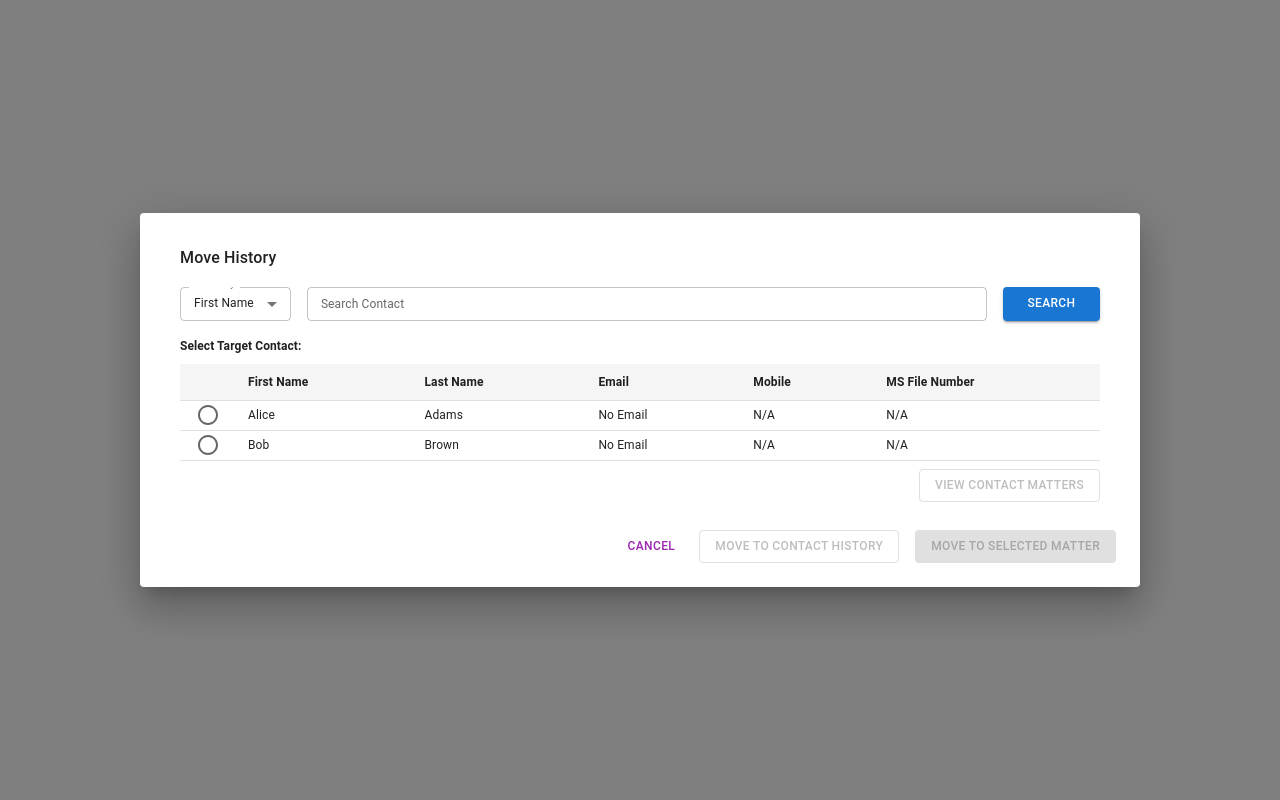
Test case: ContactDialog Matter destinations › loads Matters for a Contact found through CRM search
Click the text "Alice": {"x": 320, "y": 415} [232,400,408,430]
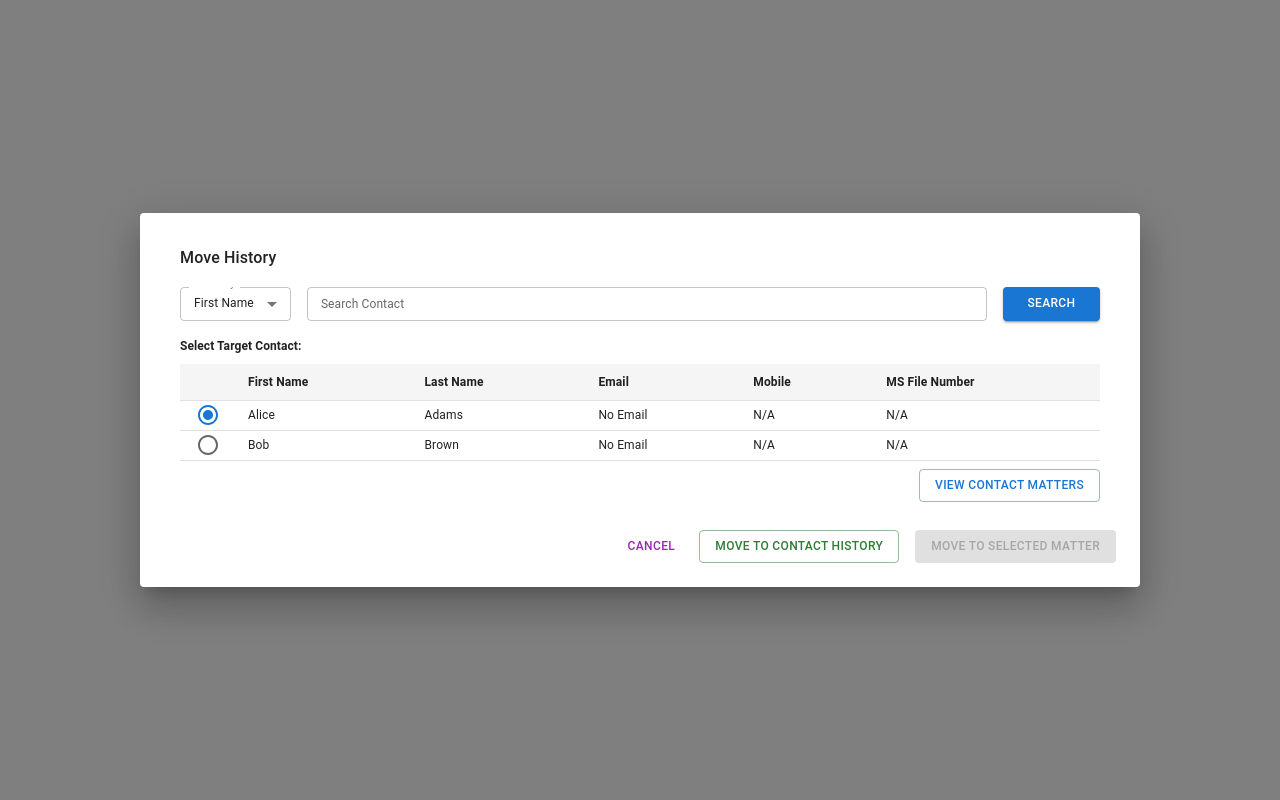
Click the button "View Contact Matters": {"x": 1010, "y": 486} [919,469,1100,502]
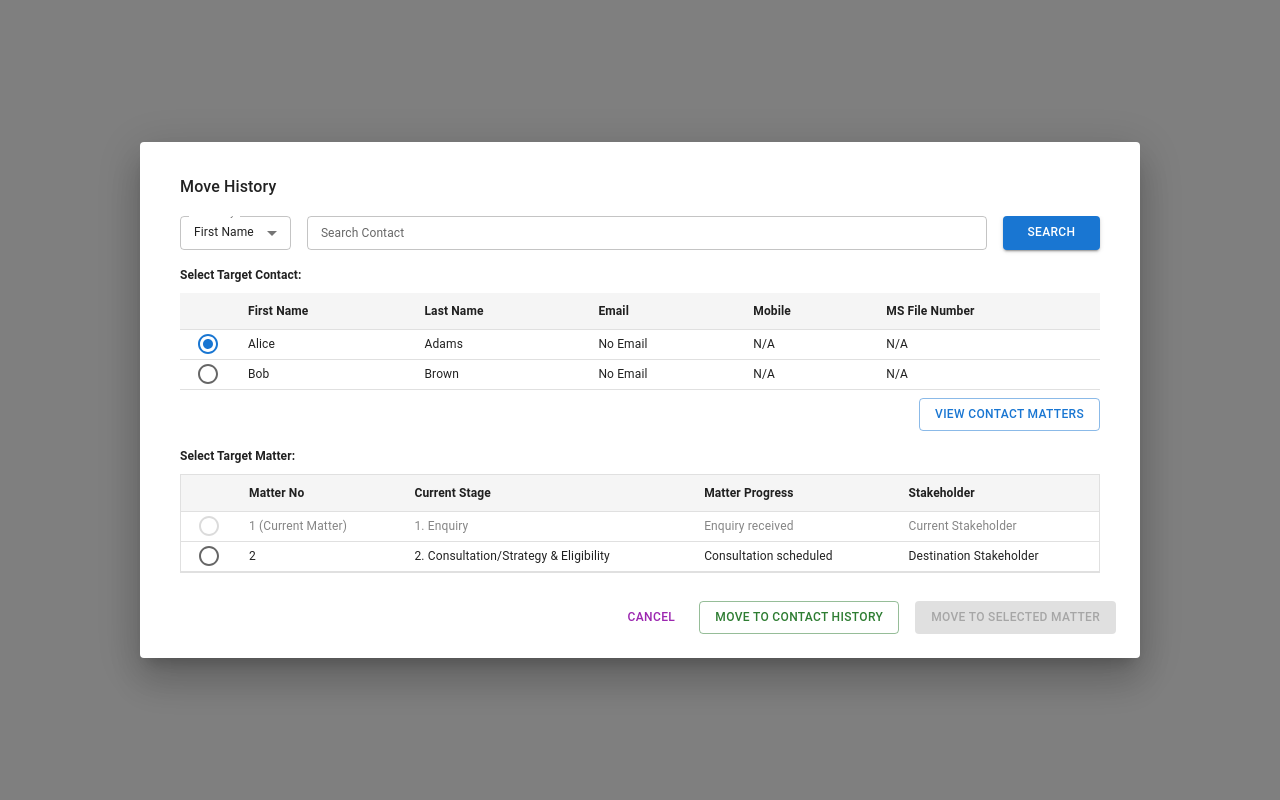
Check: the heading "Select Target Matter:" is shown, box [180,449,295,463]
Click the radio button named "Select Matter 2": {"x": 209, "y": 556} [197,544,221,568]
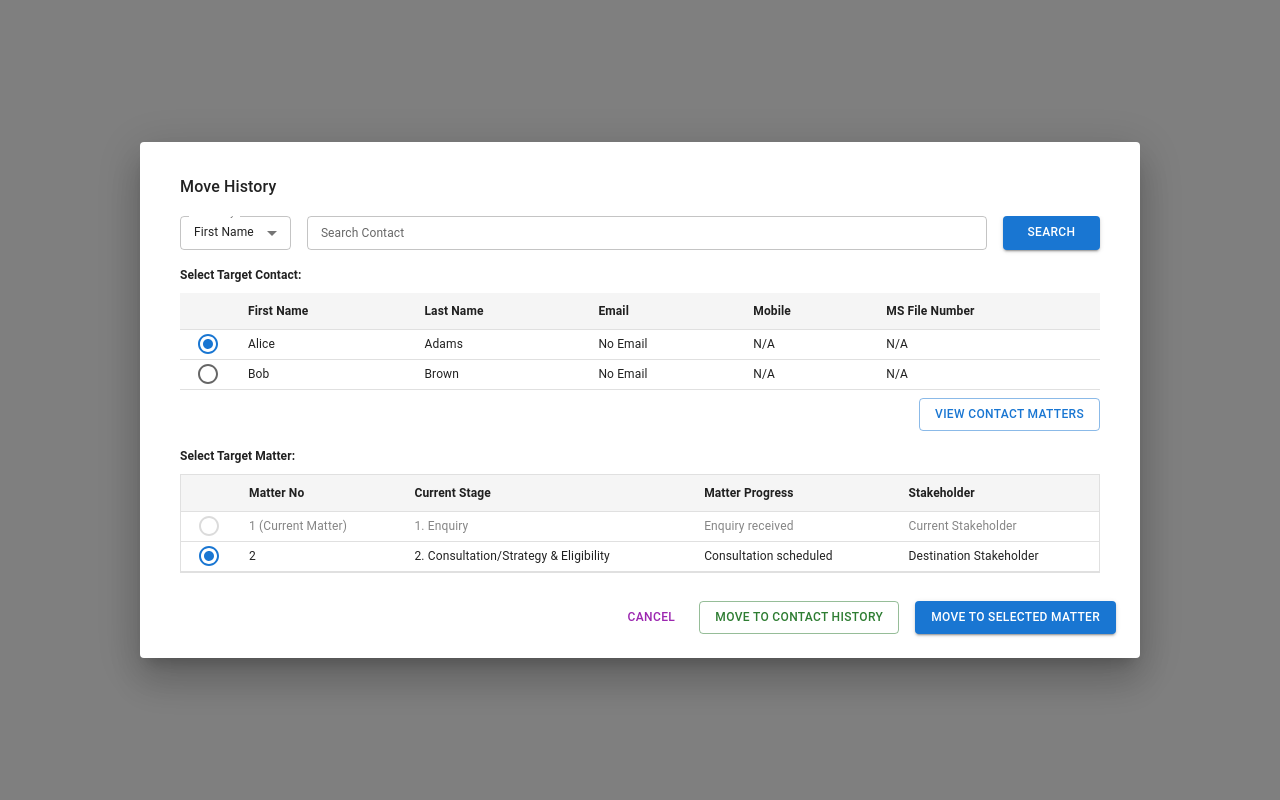
Check: the button "Move to Selected Matter" is enabled, box [915,601,1116,634]
In the field labelled "Search Contact": {"x": 647, "y": 233} [307,216,987,250], type "Search"
Click the button "Search": {"x": 1051, "y": 233} [1003,216,1100,250]
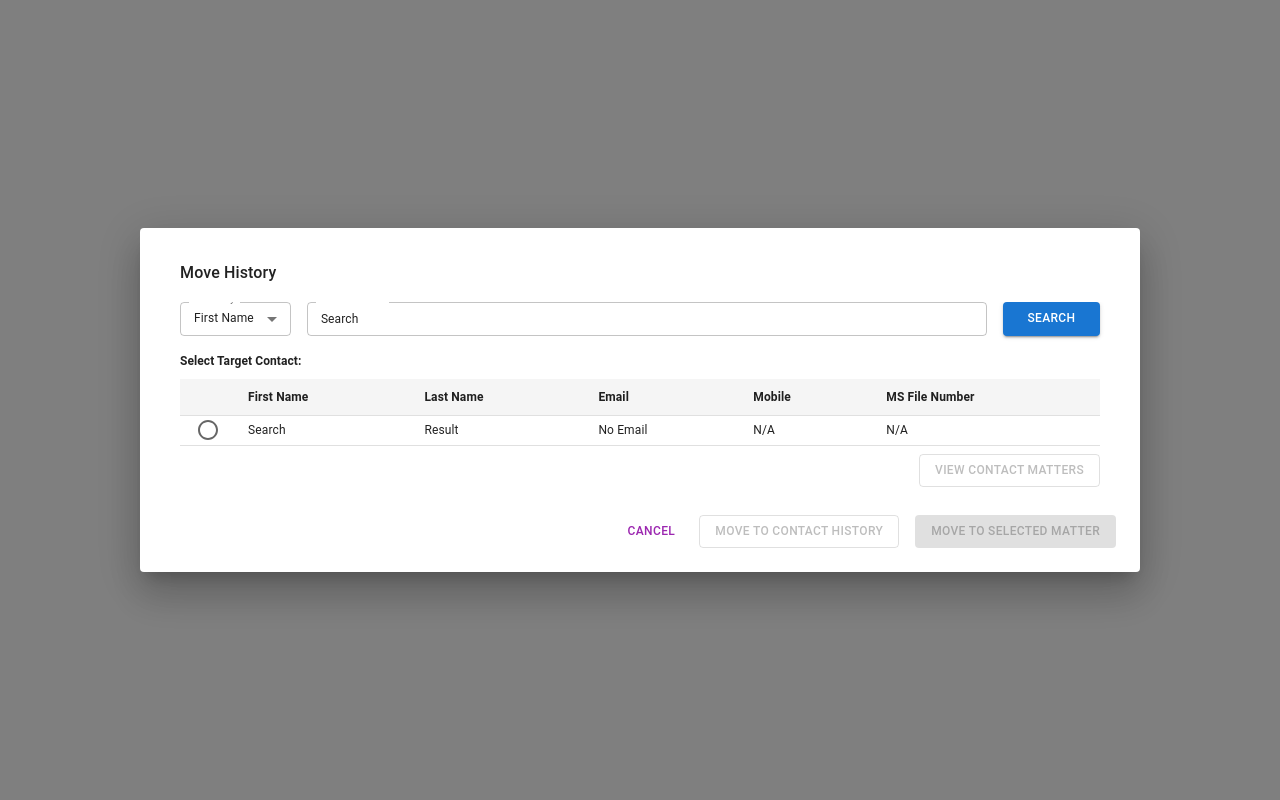
Check: the button "Move to Selected Matter" is disabled, box [915,515,1116,548]
Check: the heading "Select Target Matter:" is gone
Click the text "Result": {"x": 495, "y": 430} [408,415,582,446]
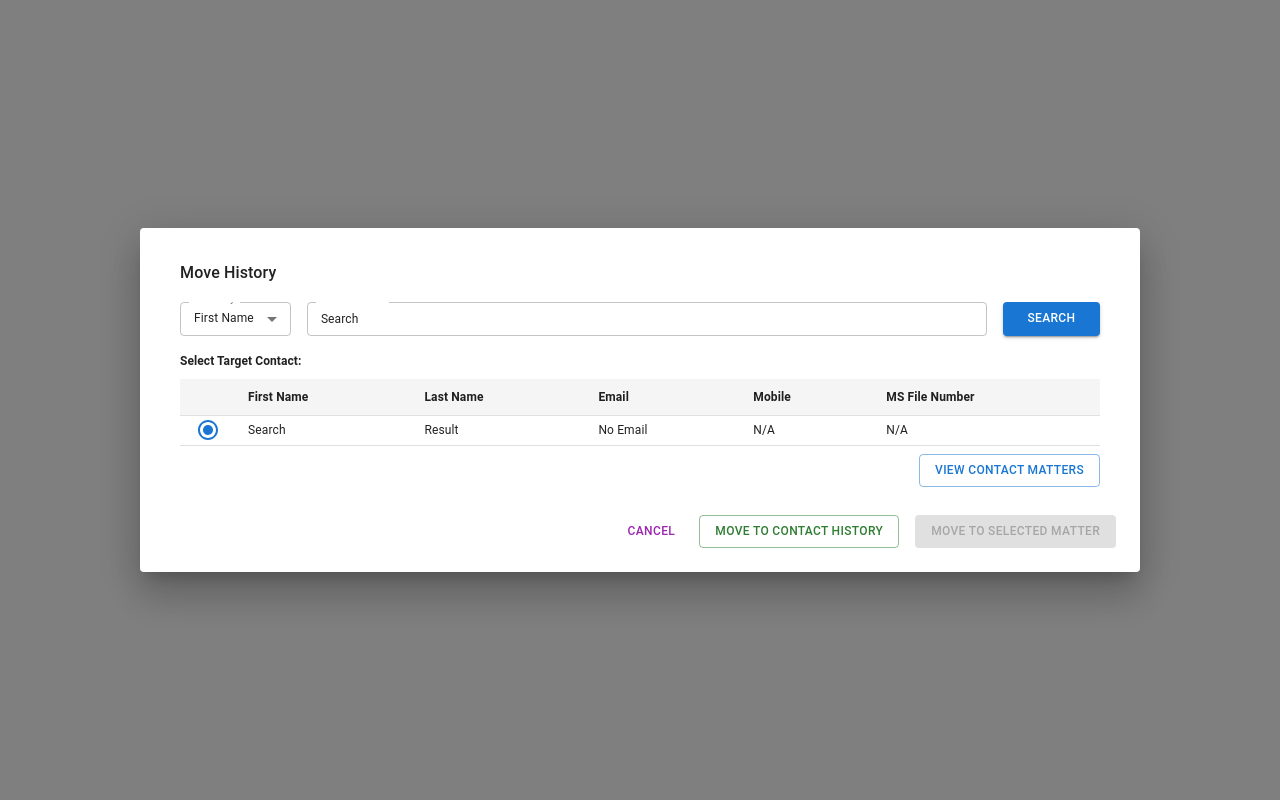
Check: the text "Alice" is not shown
Click the button "View Contact Matters": {"x": 1010, "y": 470} [919,454,1100,487]
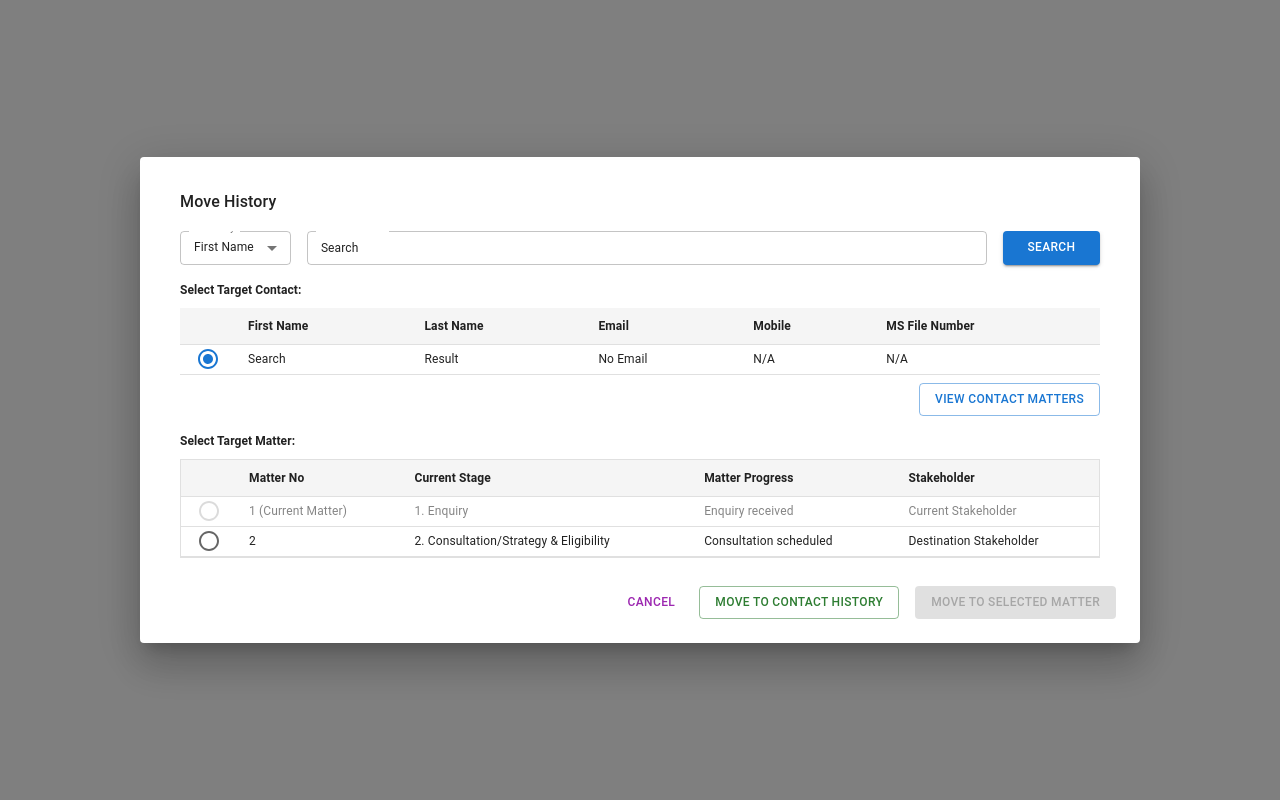
Check: the heading "Select Target Matter:" is shown, box [180,434,295,448]
